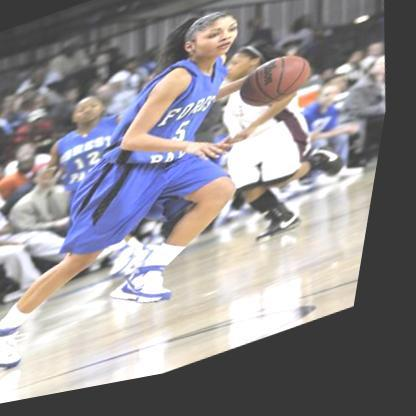basketball: (236, 56, 323, 127)
